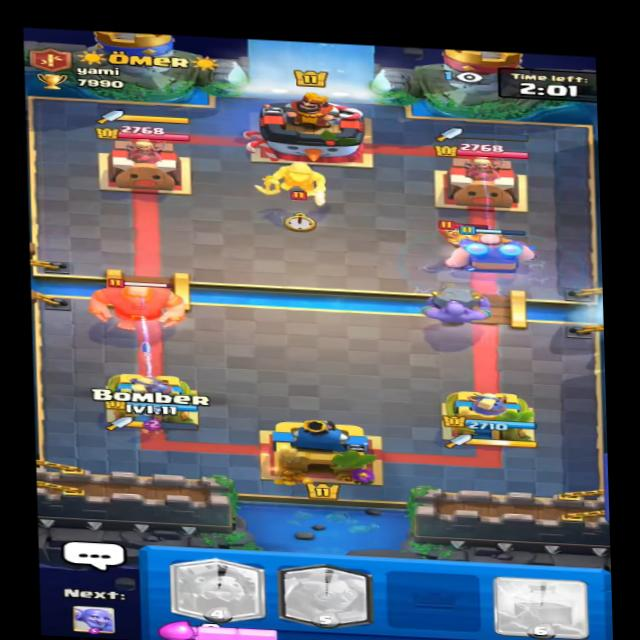fisherman: (251, 151, 333, 210)
giant: (85, 276, 192, 341)
wizard: (428, 218, 492, 253)
